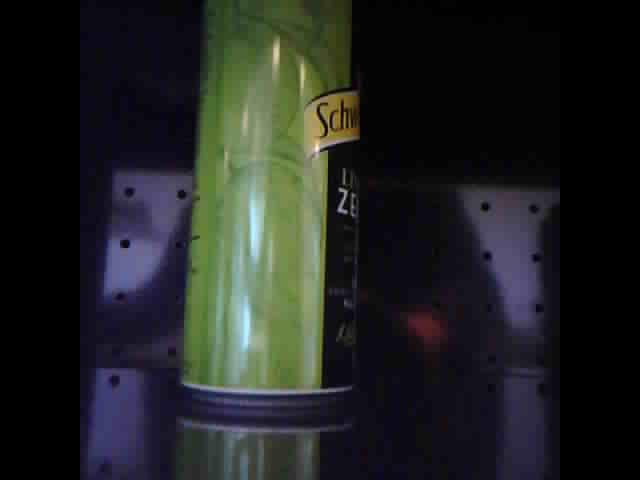schweppes: (176, 1, 371, 416)
